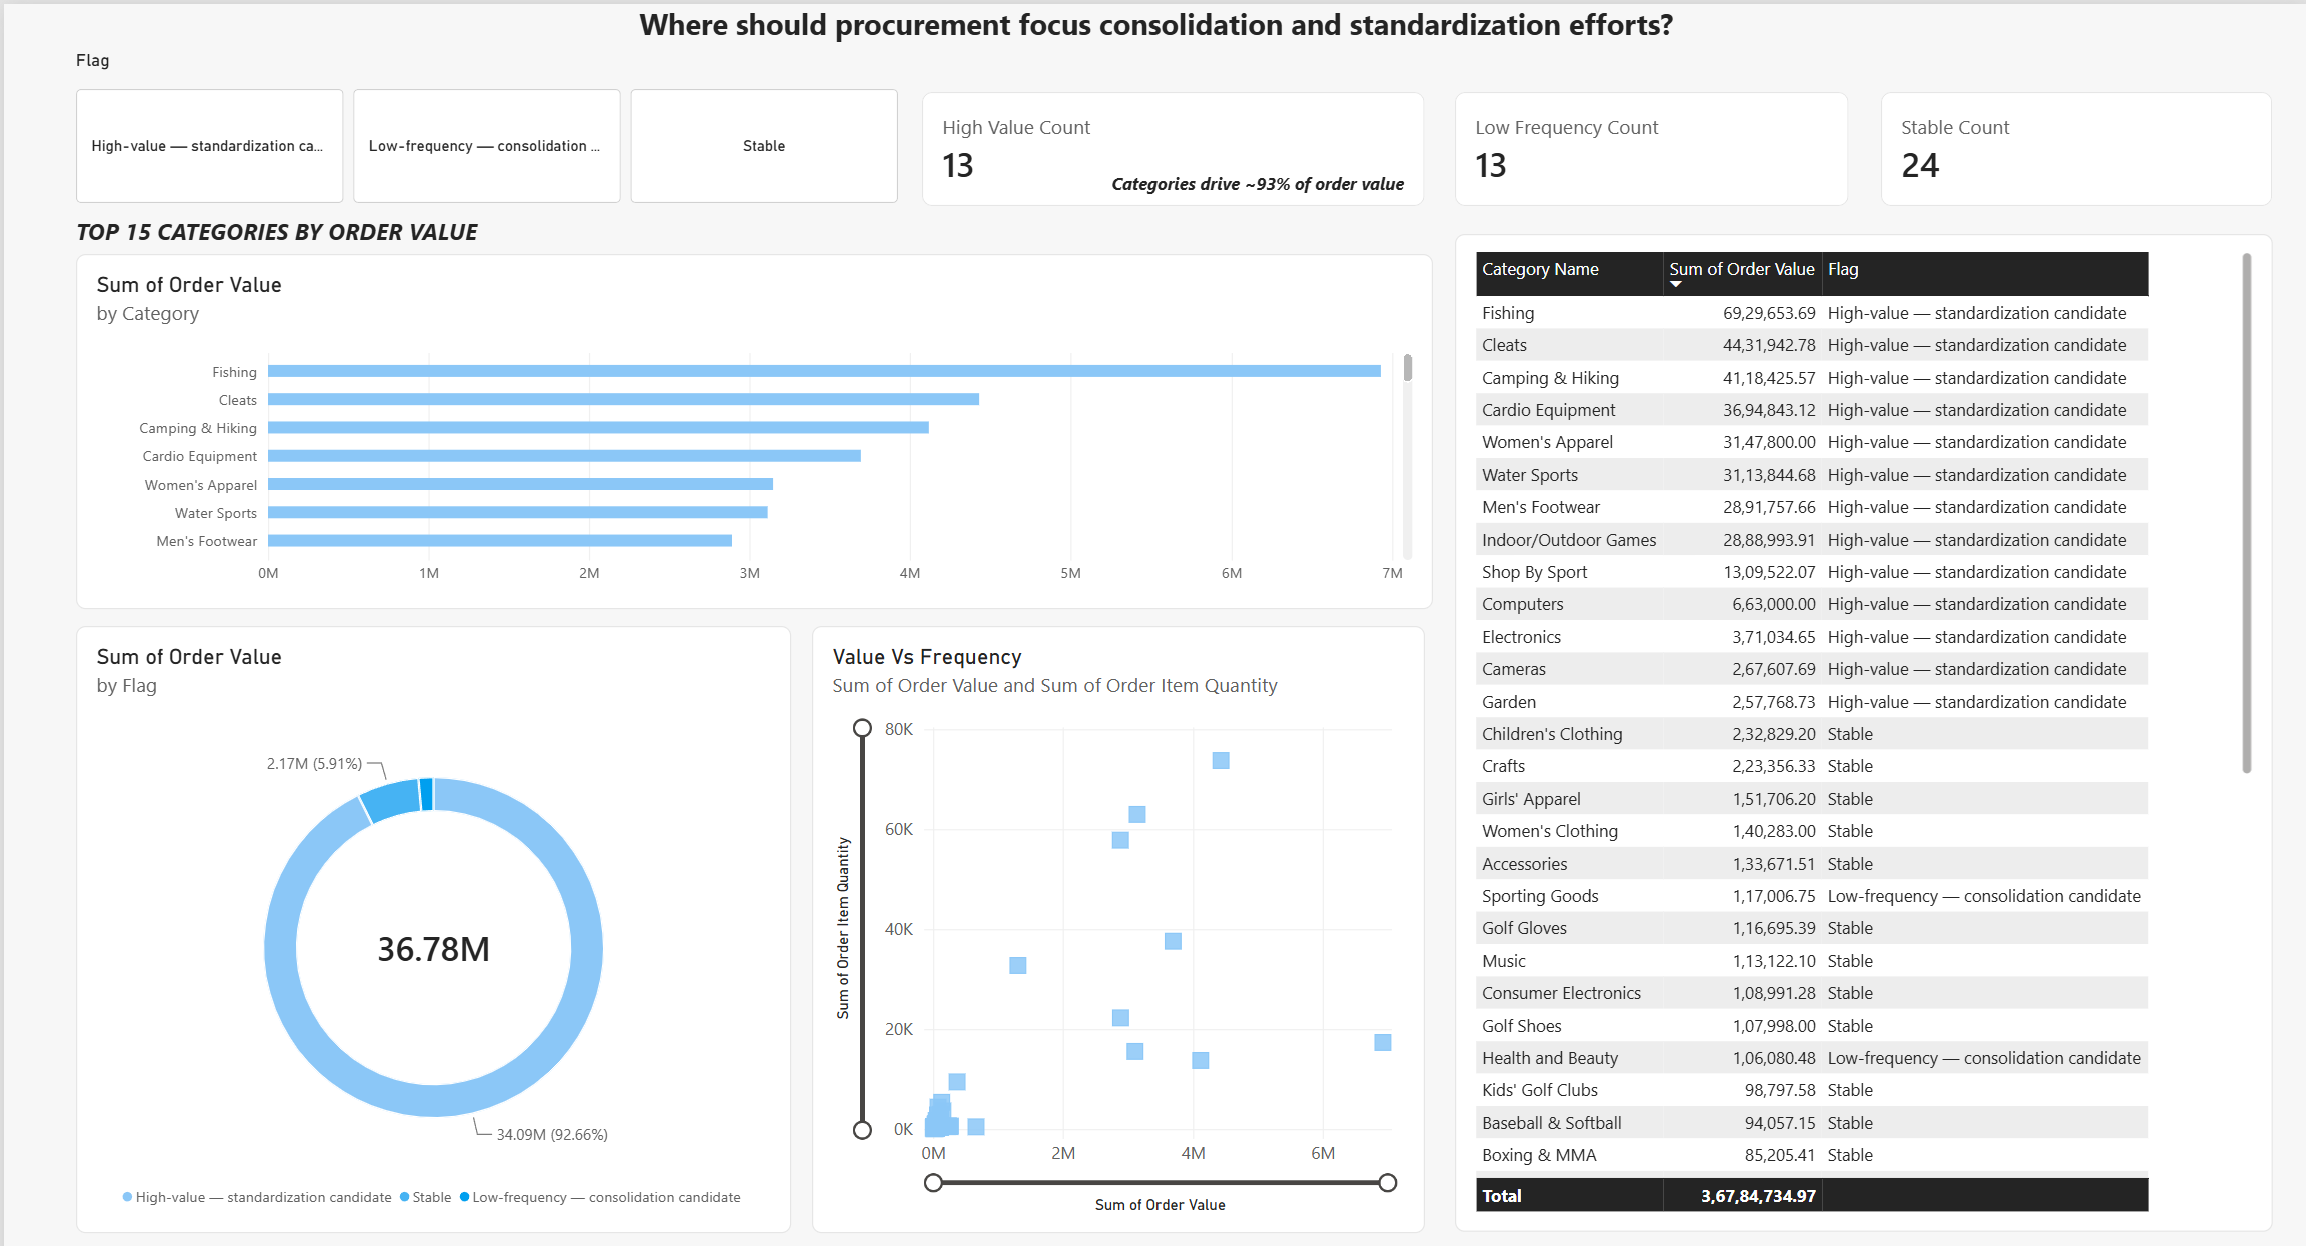

The dashboard page shown, as its layout file describes it:
{"tool":"powerbi","page":{"name":"Procurement_Overview","canvas":[1920,1080],"ordinal":0},"visuals":[{"type":"clusteredBarChart","fields":{"Category":["Summary_final.Row Labels"],"Y":["Sum(Summary_final.Sum of Order Value)"]},"box":[60,208,1130,296],"z":0},{"type":"cardVisual","fields":{"Data":["Summary_final.High Value Count"]},"box":[765.5,72.7,418.2,95.5],"z":1000},{"type":"textbox","box":[811.7,140,354.3,27.1],"z":2000},{"type":"tableEx","fields":{"Values":["Summary_final.Row Labels","Sum(Summary_final.Sum of Order Value)","Summary_final.Flag"]},"box":[1208.3,191.7,681.7,831.7],"z":3000},{"type":"advancedSlicerVisual","fields":{"Values":["Summary_final.Flag"]},"box":[60,39.1,685.5,128.2],"z":4000},{"type":"donutChart","fields":{"Category":["Summary_final.Flag"],"Y":["Sum(Summary_final.Sum of Order Value)"]},"box":[60,518,596,506],"z":5000},{"type":"textbox","box":[482,0,956,50],"z":6000},{"type":"textbox","box":[60,177.3,557.5,30],"z":7000},{"type":"scatterChart","title":"Value Vs Frequency","fields":{"X":["Summary_final.Sum of Order Value"],"Y":["Summary_final.Sum of Order Item Quantity"]},"box":[674,518,510,506],"z":8000},{"type":"cardVisual","fields":{"Data":["Summary_final.Low Frequency Count"]},"box":[1208.3,73.3,328.3,95],"z":8001},{"type":"cardVisual","fields":{"Data":["Summary_final.Stable Count"]},"box":[1563.3,73.3,326.7,95],"z":8002}]}

Visuals, with their boxes on the page's 1920x1080 design canvas (x1, y1, x2, y2). These are canvas units, not pixel positions in the 2306x1246 screenshot, which may show the page scaled, cropped or inside an application window:
clusteredBarChart - Summary_final.Row Labels x Sum(Summary_final.Sum of Order Value): box=[60, 208, 1190, 504]
cardVisual - Summary_final.High Value Count: box=[766, 73, 1184, 168]
textbox: box=[812, 140, 1166, 167]
tableEx - Summary_final.Row Labels x Sum(Summary_final.Sum of Order Value): box=[1208, 192, 1890, 1023]
advancedSlicerVisual - Summary_final.Flag: box=[60, 39, 746, 167]
donutChart - Summary_final.Flag x Sum(Summary_final.Sum of Order Value): box=[60, 518, 656, 1024]
textbox: box=[482, 0, 1438, 50]
textbox: box=[60, 177, 618, 207]
"Value Vs Frequency" scatterChart: box=[674, 518, 1184, 1024]
cardVisual - Summary_final.Low Frequency Count: box=[1208, 73, 1537, 168]
cardVisual - Summary_final.Stable Count: box=[1563, 73, 1890, 168]
